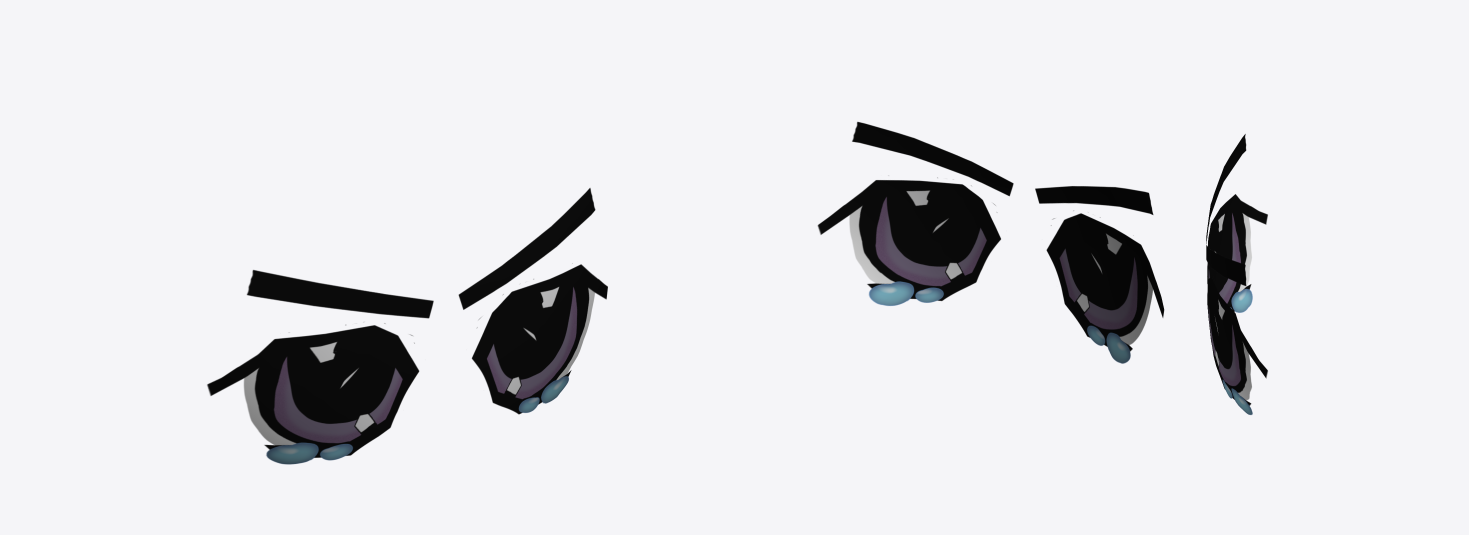
File: Teary_Lilac.glb
3 views of the same model, side by side, from view 1: azimuth 30°, elevation 25°; view 2: azimuth 150°, elevation 25°; view 3: azimuth 270°, elevation 25° (orthographic). The views are drawn at different scales.
Parts seen in each view (by area): view 1: Teary_Lilac; view 2: Teary_Lilac; view 3: Teary_Lilac.
Boxes of the visible parts, x1,y1,x2,y2 form: Teary_Lilac: (207,188,607,464); Teary_Lilac: (817,122,1164,363); Teary_Lilac: (1206,134,1267,414).
Size of the model in its own units: 0.8827 by 0.6239 by 0.4009.
Materials: 1 (1 with a texture image).
